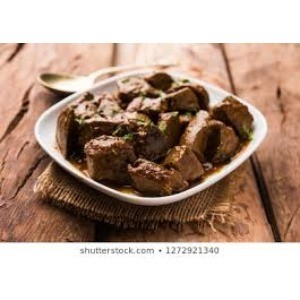liver_brain food: (71, 68, 198, 171)
